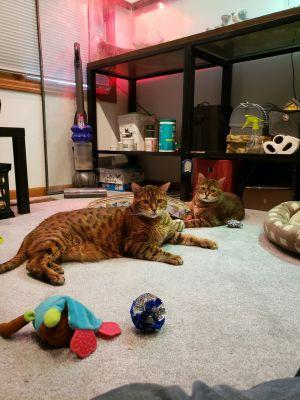bengal: (130, 178, 177, 223)
